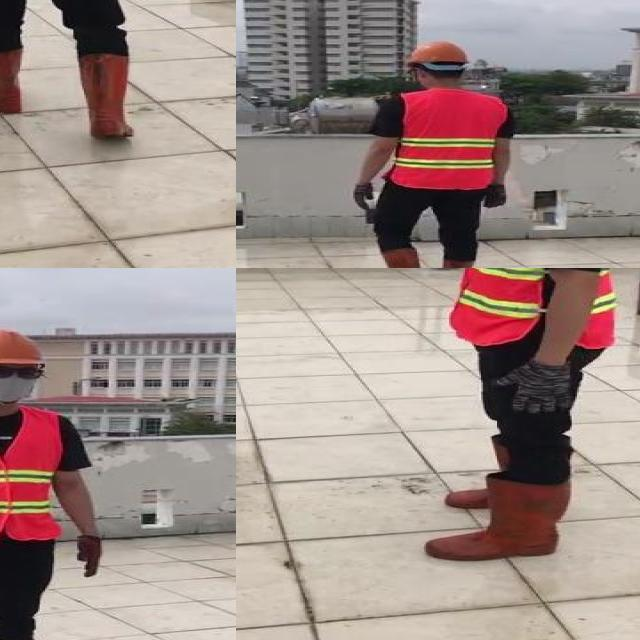boots: (424, 475, 568, 560), (75, 52, 145, 138), (0, 45, 28, 115), (374, 251, 427, 268), (435, 258, 474, 268)
face_mask: (0, 359, 38, 402)
glasses: (0, 358, 46, 383)
hand_glove: (496, 361, 574, 415), (77, 536, 100, 578), (482, 183, 508, 210), (352, 181, 374, 210)
head_helmet: (0, 328, 47, 366), (406, 39, 468, 66)
person: (390, 268, 626, 576), (344, 38, 526, 268), (0, 328, 110, 640), (0, 0, 169, 147)
vest: (450, 268, 614, 353), (396, 88, 504, 188), (0, 406, 63, 542)
